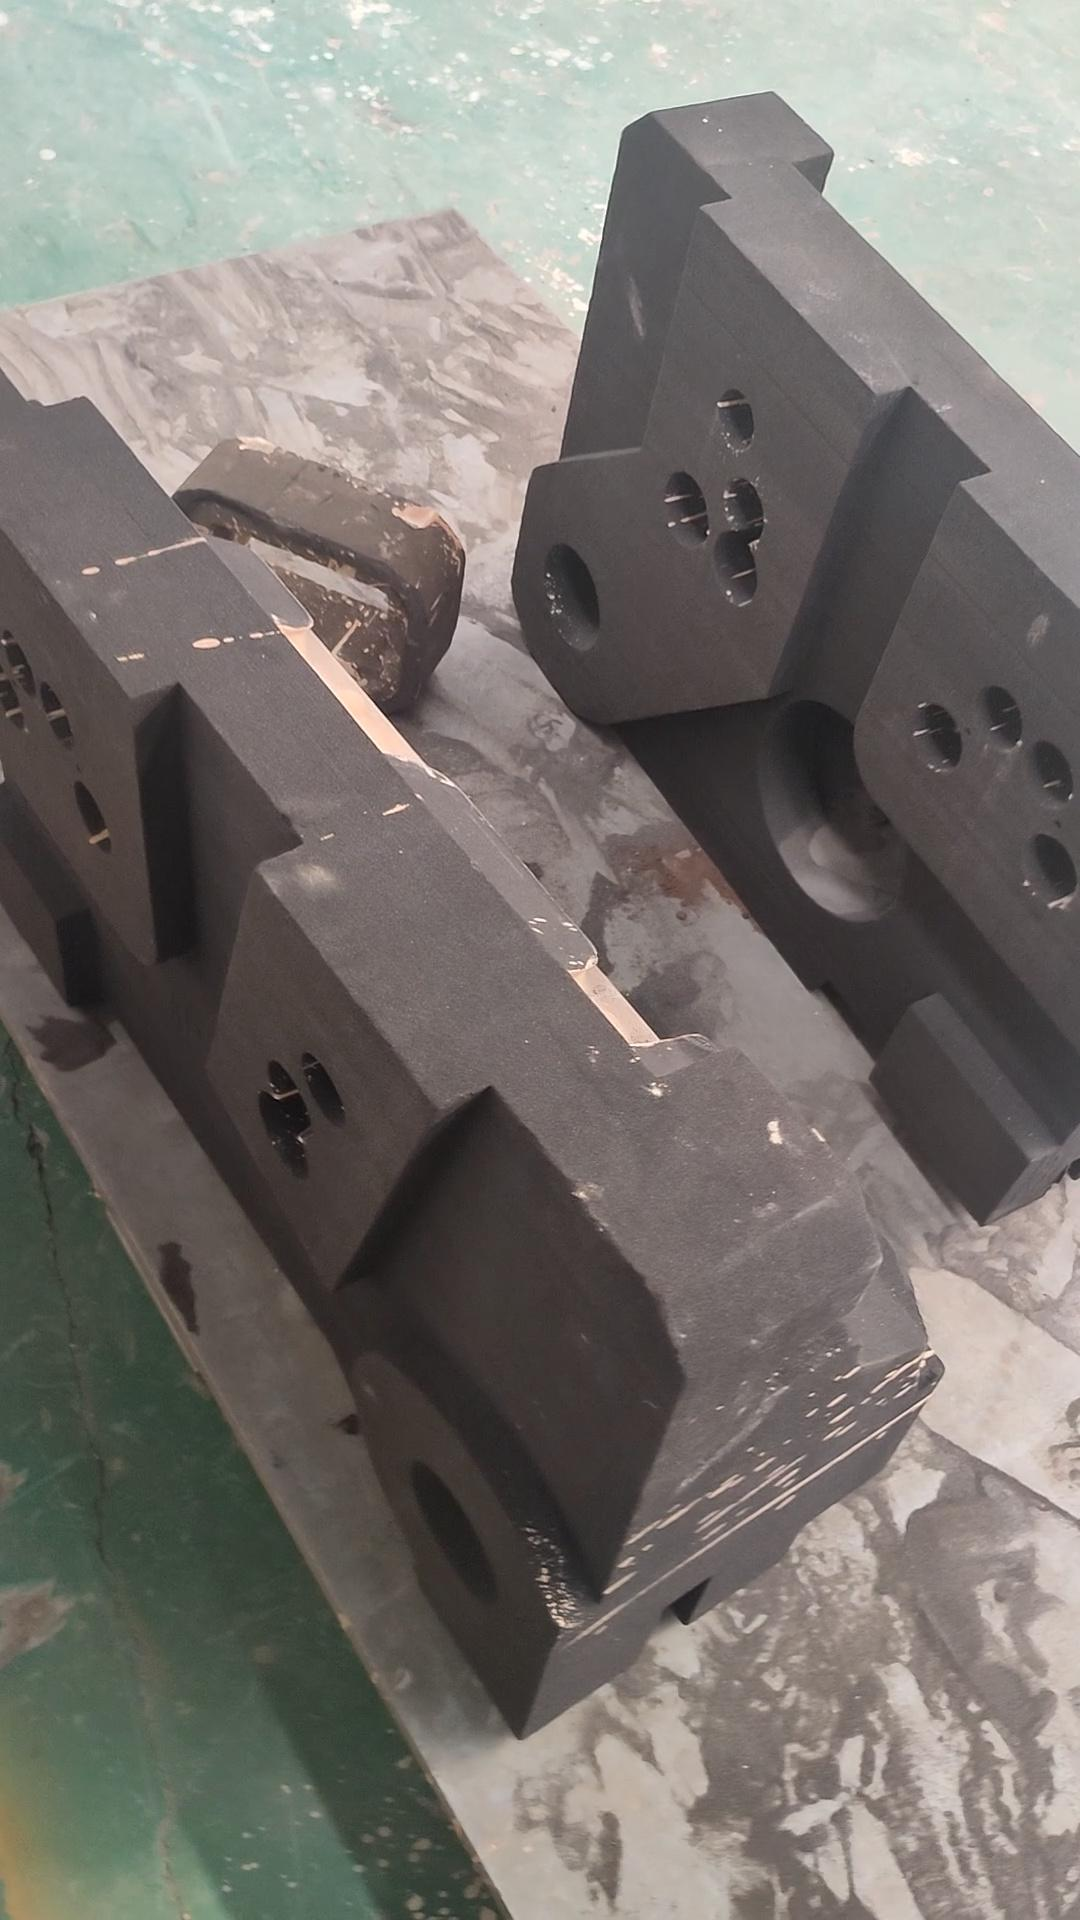pouring hole: (411, 1462, 495, 1606), (543, 543, 600, 655)
